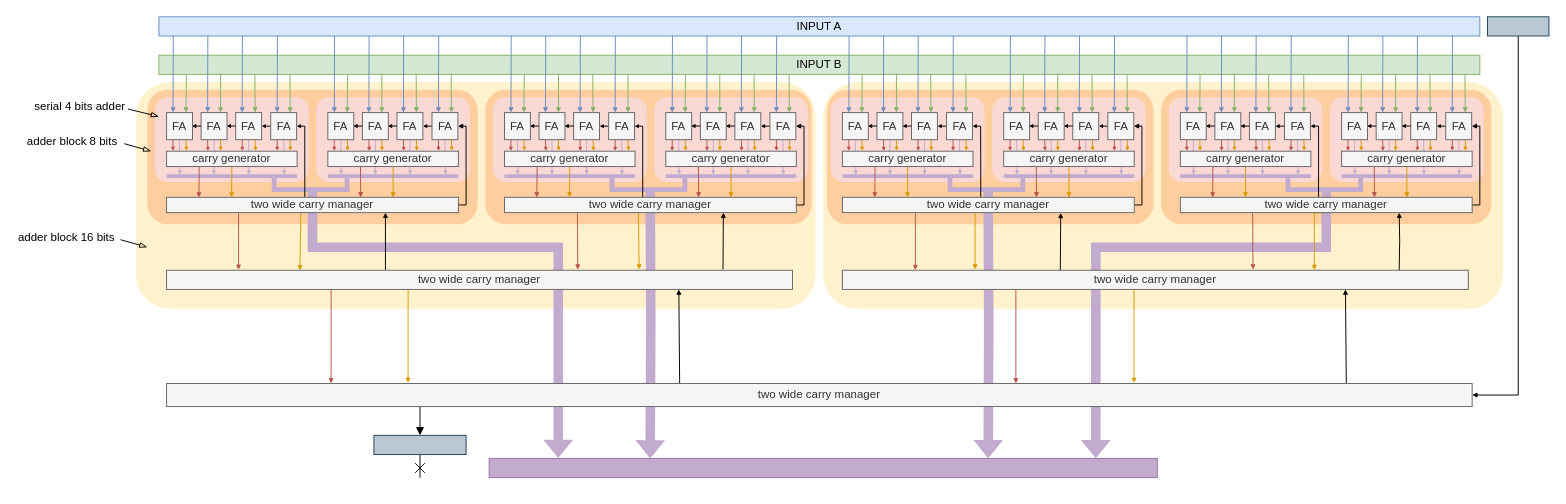
Some shapes in this 1566 by 504 pixel diagram are drawn without their labels. The centre of each missing label's shape, as x and y in pixels:
"Carry output" belongs at (x=419, y=444).
"is sub" belongs at (x=1518, y=26).
"OUTPUT" belongs at (x=822, y=467).
